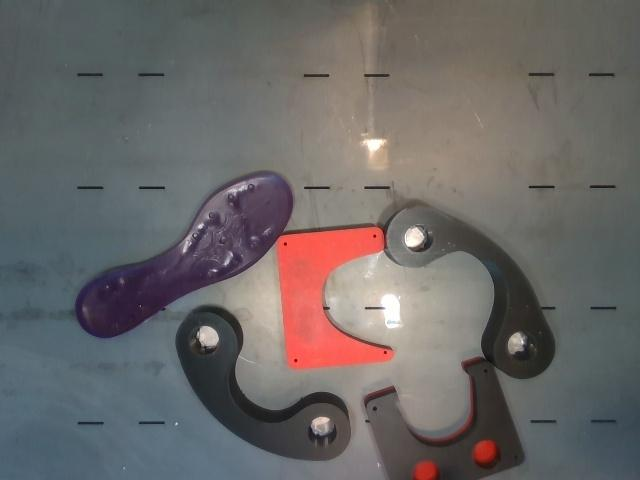shoes: (75, 172, 293, 337)
